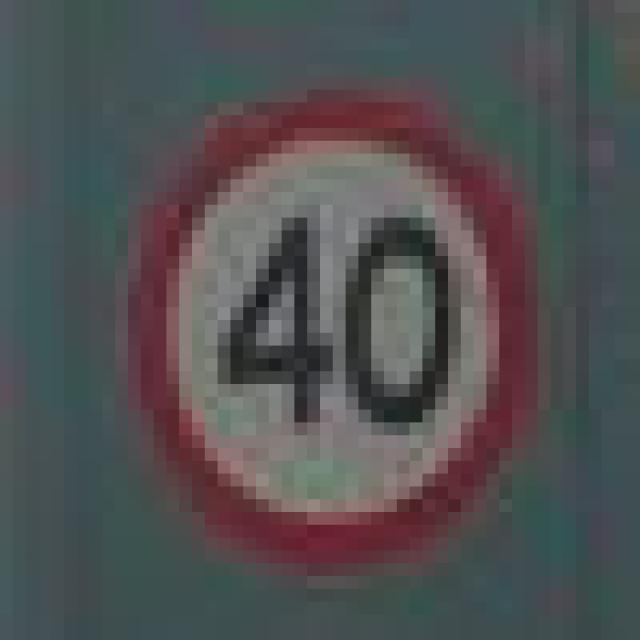falling_rocks: (102, 77, 538, 563)
